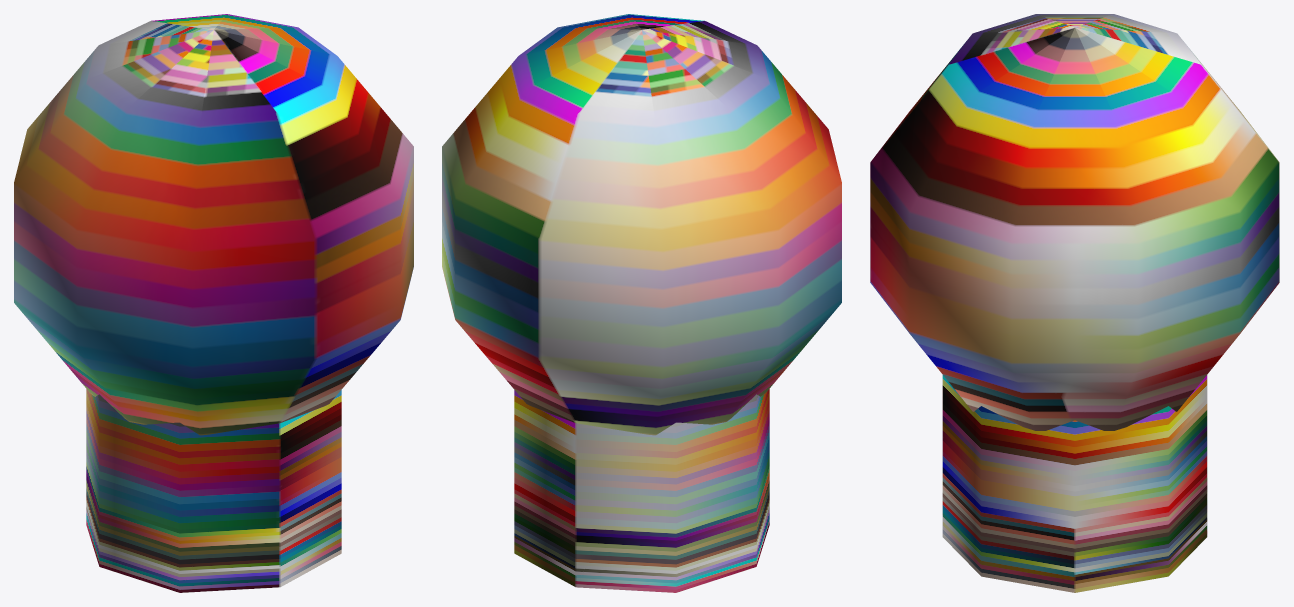
The model's file is CR_sci_Globe_001_Collider.FBX.
3 views of the same model, side by side, from view 1: azimuth 30°, elevation 25°; view 2: azimuth 150°, elevation 25°; view 3: azimuth 270°, elevation 25° (orthographic).
Visible parts, largest first — view 1: CR_sci_Globe_001_Collider; view 2: CR_sci_Globe_001_Collider; view 3: CR_sci_Globe_001_Collider.
Part boxes in pixels (bbox=[...]): CR_sci_Globe_001_Collider: bbox=[14, 14, 413, 592]; CR_sci_Globe_001_Collider: bbox=[442, 14, 841, 592]; CR_sci_Globe_001_Collider: bbox=[870, 14, 1279, 592].
Size of the model in its own units: 37.42 by 54.05 by 39.35.
